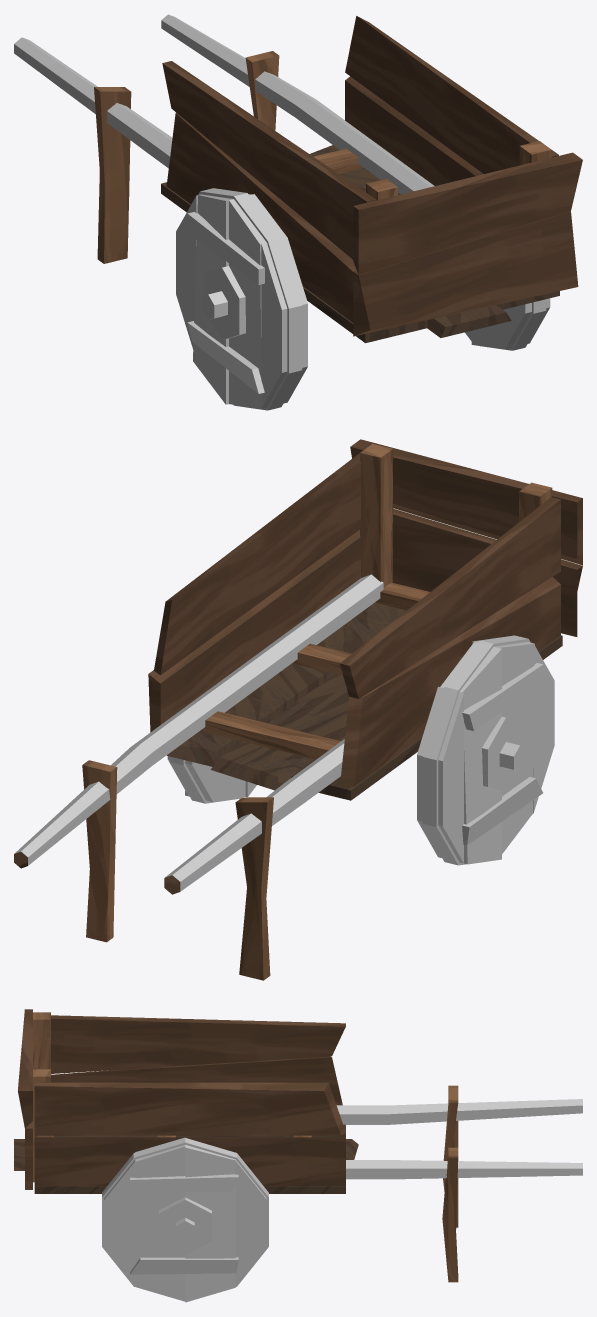
The model's file is Cart.fbx.
The picture shows the model from 3 angles, top to bottom: view 1: azimuth 30°, elevation 25°; view 2: azimuth 150°, elevation 25°; view 3: azimuth 270°, elevation 25°; orthographic projection. The views are drawn at different scales.
Visible parts, largest first — view 1: _Cart; view 2: _Cart; view 3: _Cart.
Part boxes in pixels (x1,y1,x2,y2): _Cart: (14, 14, 582, 410); _Cart: (14, 439, 582, 980); _Cart: (14, 1009, 582, 1302).
Bounding box in the file's own units: 128 × 111 × 271.
